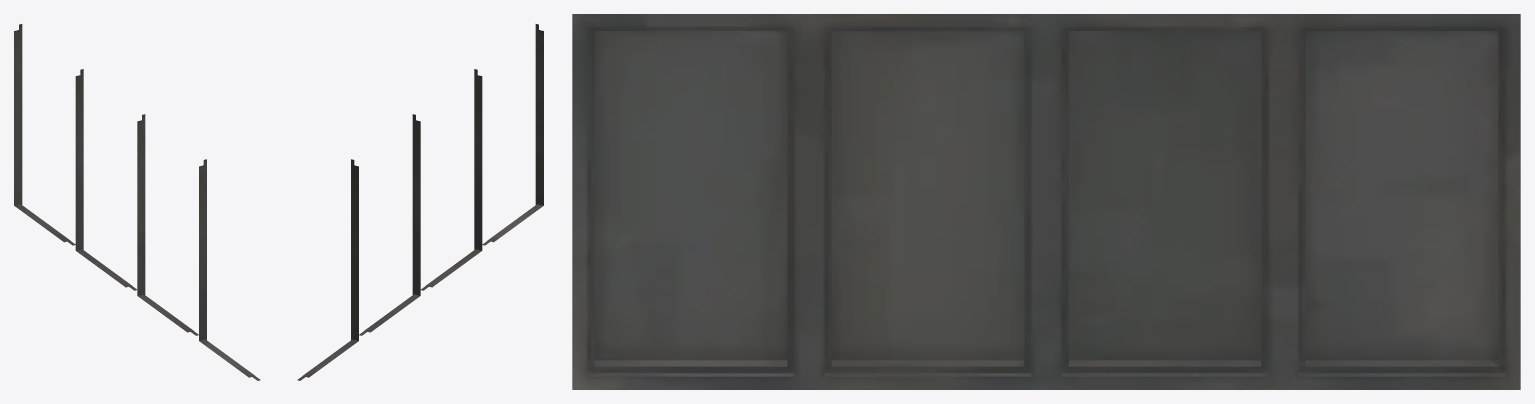
3 views of the same model, side by side, from view 1: azimuth 30°, elevation 25°; view 2: azimuth 150°, elevation 25°; view 3: azimuth 270°, elevation 25° (orthographic). The views are drawn at different scales.
Visible parts, largest first — view 1: body0_model0_lod0_mesh0; view 2: body0_model0_lod0_mesh0; view 3: body0_model0_lod0_mesh0.
Boxes of the visible parts, bbox=[...] form: body0_model0_lod0_mesh0: bbox=[14, 24, 260, 380]; body0_model0_lod0_mesh0: bbox=[297, 24, 543, 380]; body0_model0_lod0_mesh0: bbox=[572, 14, 1520, 389].
Size of the model in its own units: 3 by 56.01 by 128.
1 material, 1 textured.
